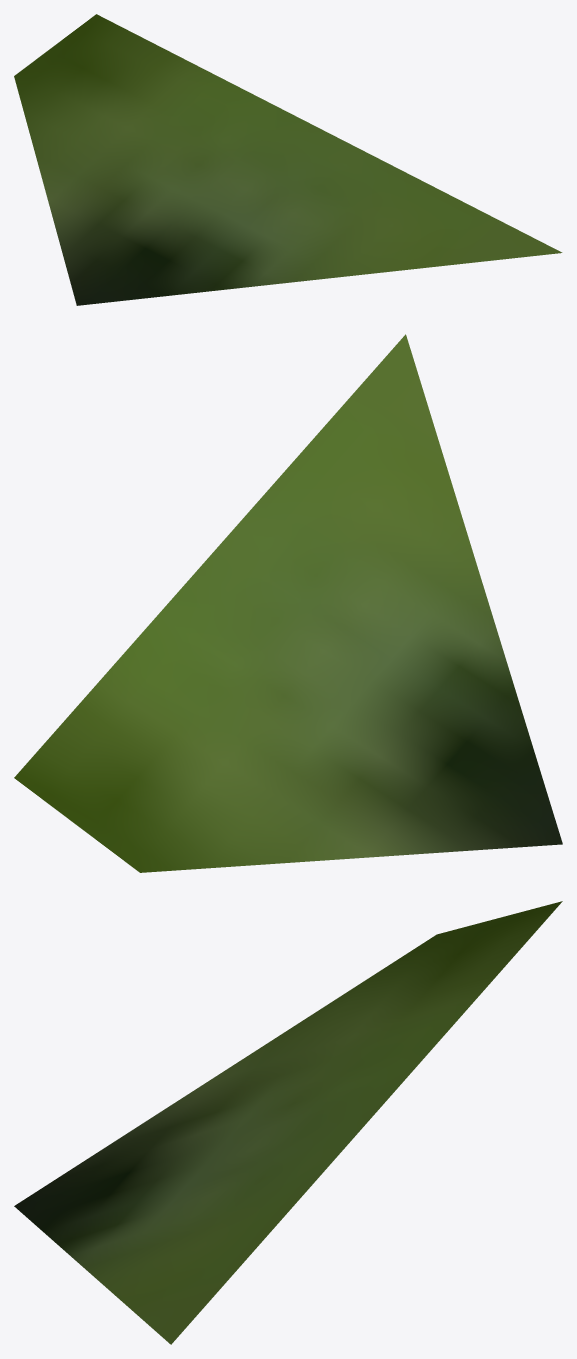
3 renders of one model, top to bottom at view 1: azimuth 30°, elevation 25°; view 2: azimuth 150°, elevation 25°; view 3: azimuth 330°, elevation 25°, orthographic. The views are drawn at different scales.
Size of the model in its own units: 0.2347 by 0.0925 by 0.499.
Materials: 1 (1 with a texture image).
